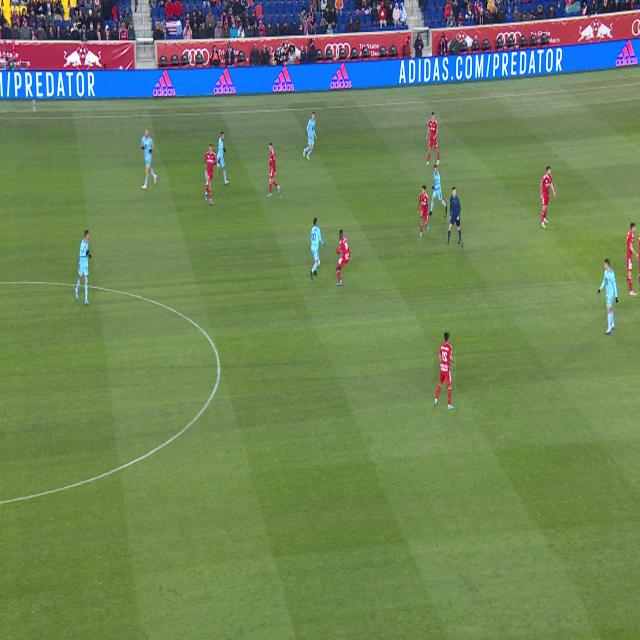football: (317, 259, 320, 268)
player: (434, 332, 456, 410), (598, 259, 618, 334), (75, 230, 91, 305), (141, 128, 157, 190), (428, 165, 447, 216), (310, 218, 325, 280), (541, 167, 555, 229), (214, 131, 229, 185), (628, 224, 639, 296), (336, 230, 350, 285), (426, 112, 440, 166), (205, 144, 217, 204), (303, 112, 317, 160), (268, 144, 280, 197), (417, 185, 429, 237), (639, 290, 640, 293)
referee: (448, 187, 461, 246)
